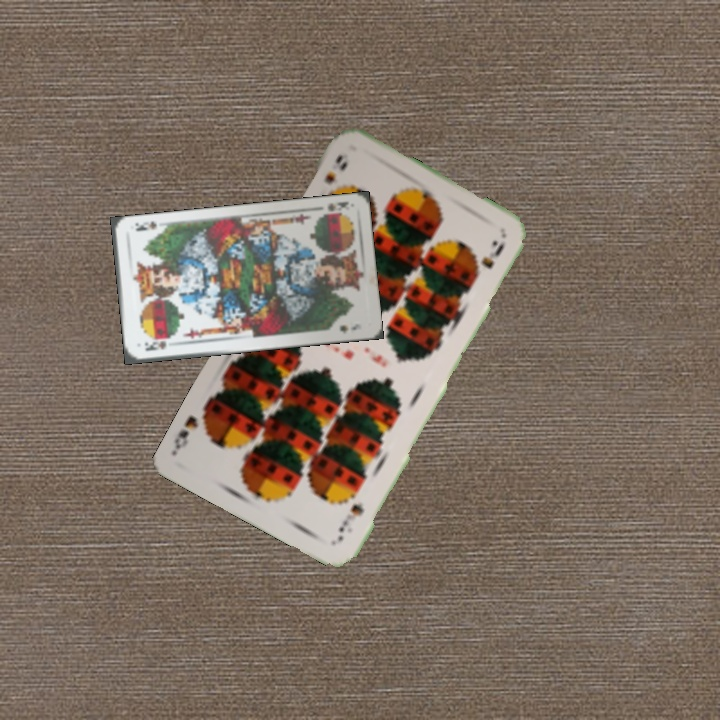S9: (334, 499, 367, 544), (320, 151, 350, 187)
SK: (324, 197, 352, 214), (141, 337, 169, 353)
